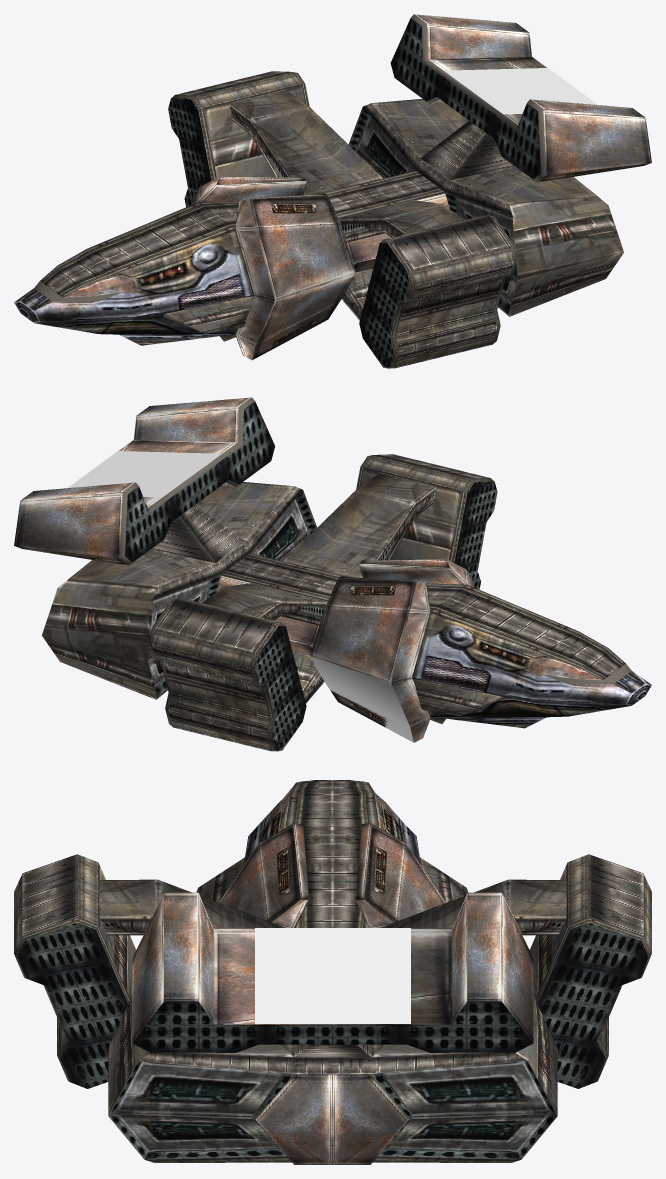
The model's file is pvs12.obj.
3 views of the same model, one above another, from view 1: azimuth 30°, elevation 25°; view 2: azimuth 150°, elevation 25°; view 3: azimuth 270°, elevation 25° (orthographic). The views are drawn at different scales.
Parts seen in each view (by area): view 1: OBJECT040.001, DECAL000.006, LIGHTS000, WINSHIELD0; view 2: OBJECT040.001, DECAL000.006, DECAL010.001, LIGHTS000, WINSHIELD0; view 3: OBJECT040.001, DECAL000.006.
Boxes of the visible parts, bbox=[...] form: OBJECT040.001: bbox=[14, 14, 651, 368]; DECAL000.006: bbox=[444, 68, 597, 114]; LIGHTS000: bbox=[411, 14, 546, 182]; WINSHIELD0: bbox=[34, 281, 124, 301]; OBJECT040.001: bbox=[14, 397, 651, 751]; DECAL000.006: bbox=[68, 451, 221, 497]; DECAL010.001: bbox=[310, 656, 413, 742]; LIGHTS000: bbox=[119, 397, 254, 565]; WINSHIELD0: bbox=[541, 664, 631, 684]; OBJECT040.001: bbox=[14, 780, 651, 1164]; DECAL000.006: bbox=[255, 928, 410, 1023].
Size of the model in its own units: 413 by 163 by 313.
Materials: 8 (8 with a texture image).
